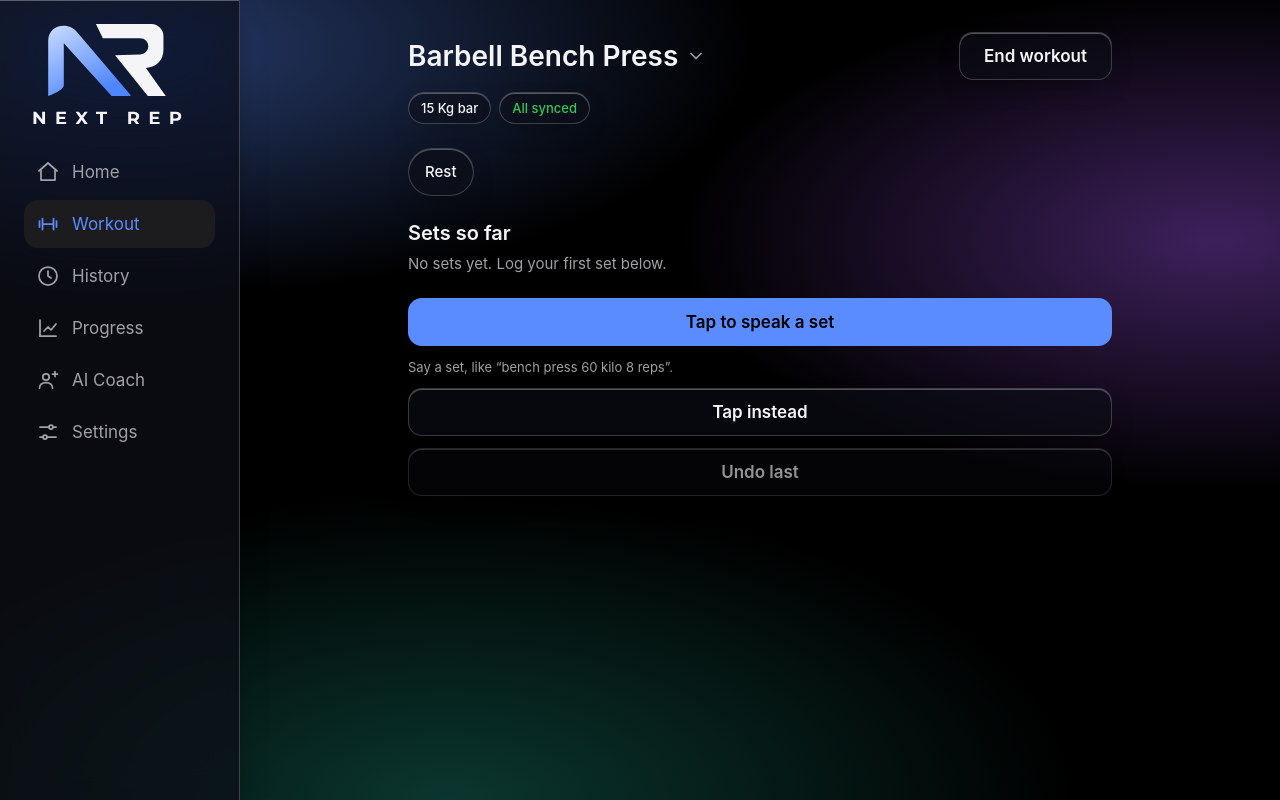
voice logging on the workout page › shows what was heard with the breakdown, and stores nothing until Log set
Click the button "Tap to speak a set".
click(760, 322)  # box [408,298,1112,346]
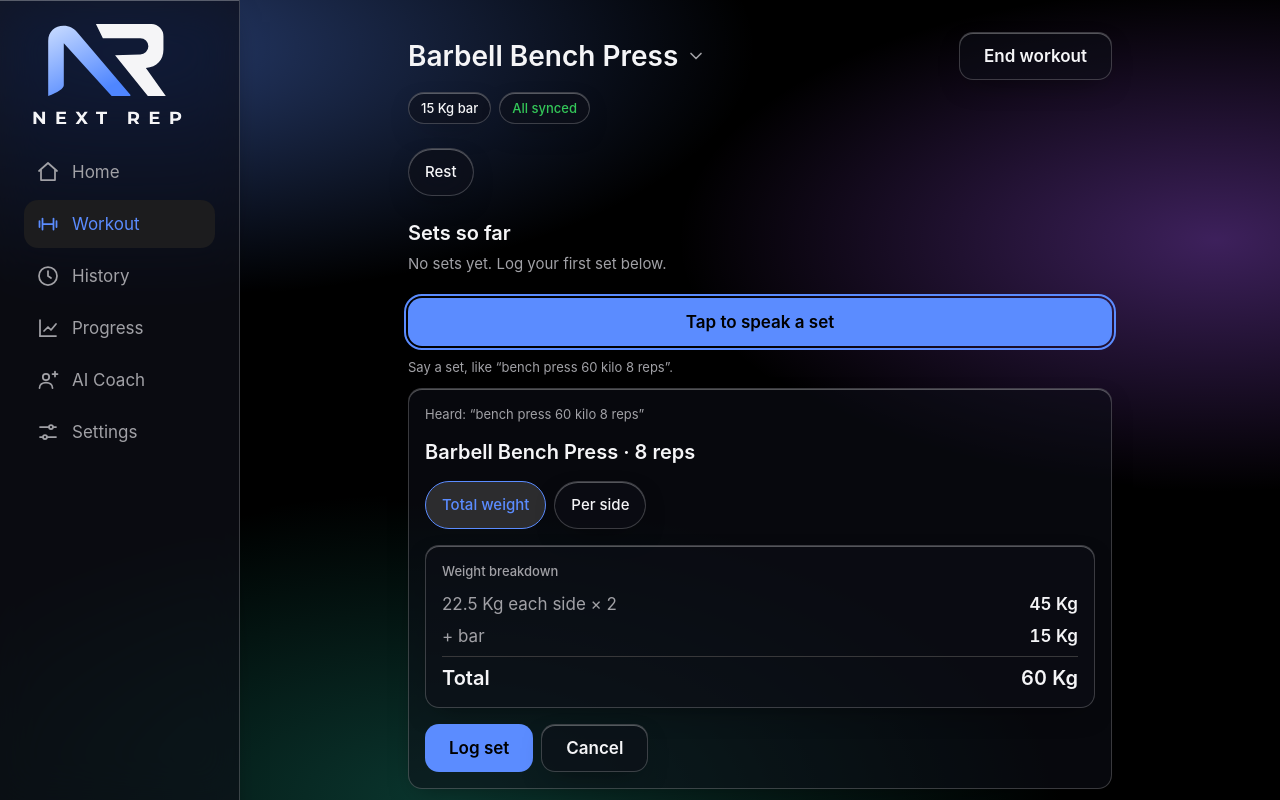
Expected: the text "Heard: “bench press 60 kilo 8 reps”" is shown, [425,406,644,422]
Expected: the text "Barbell Bench Press · 8 reps" is shown, [425,440,695,464]
Expected: the element "Weight breakdown" shows "60", [1021,666,1078,690]
